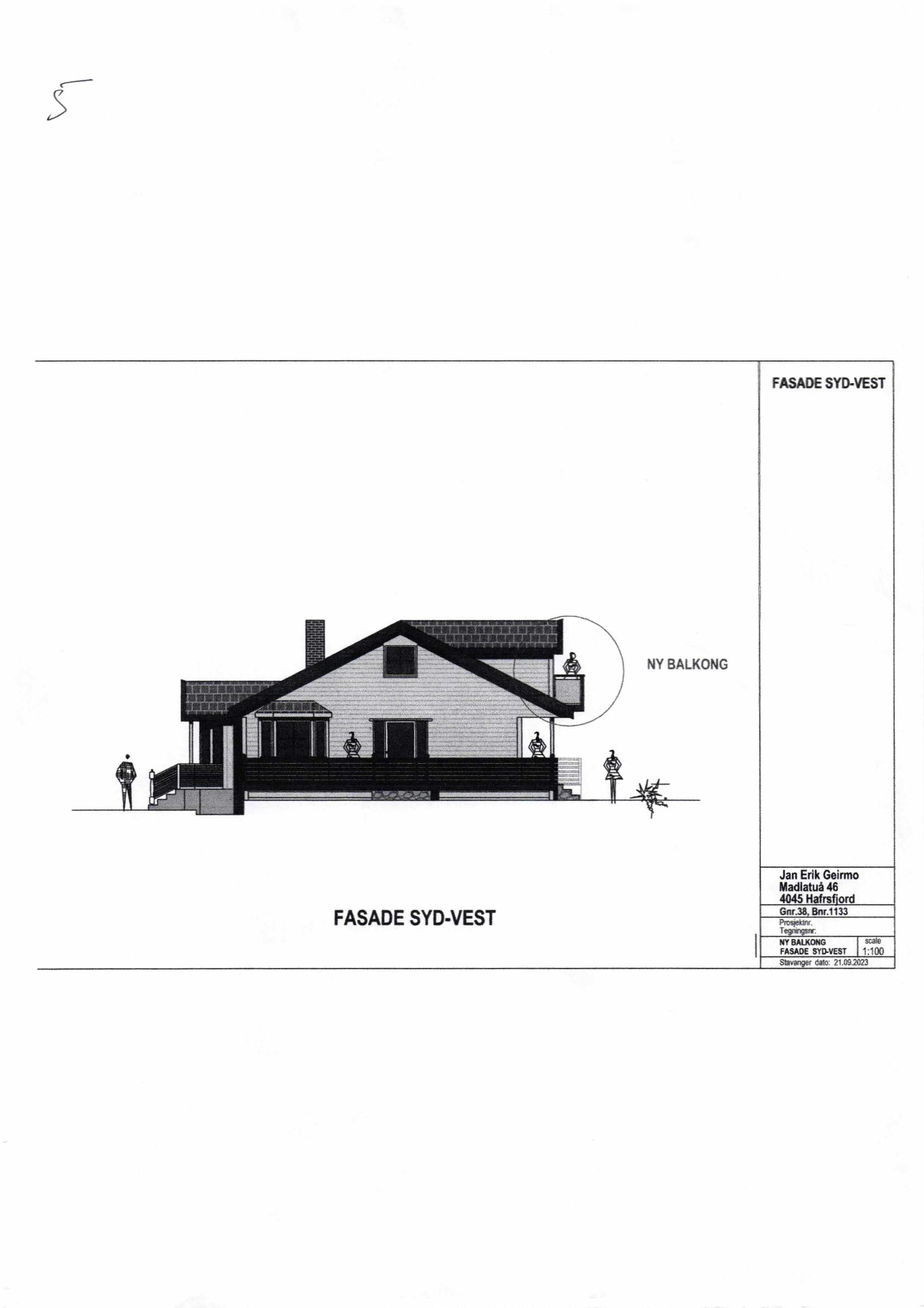fasade: (147, 618, 587, 816)
